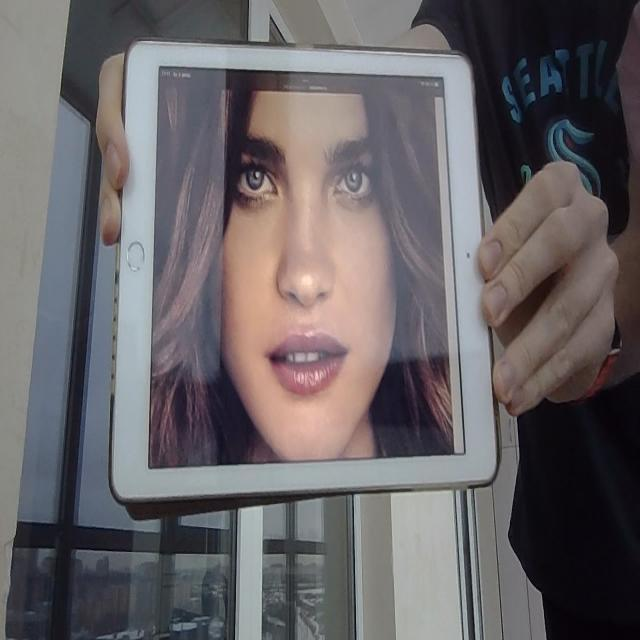bottle: (109, 30, 506, 523)
